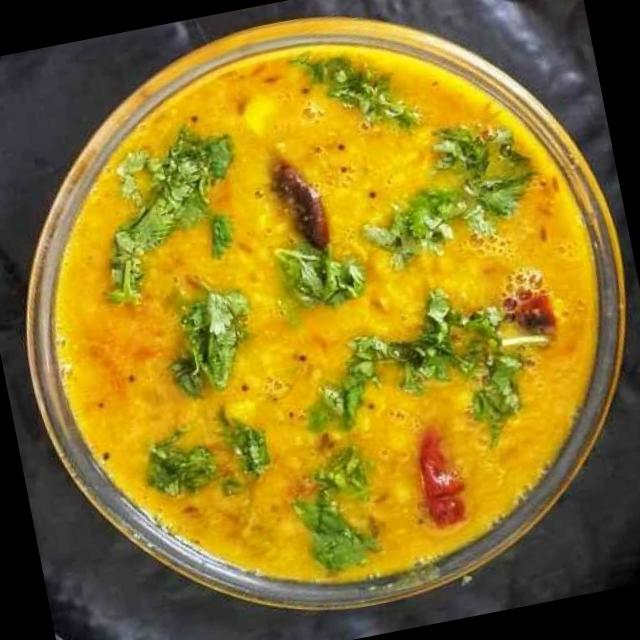dal: (6, 0, 640, 638)
